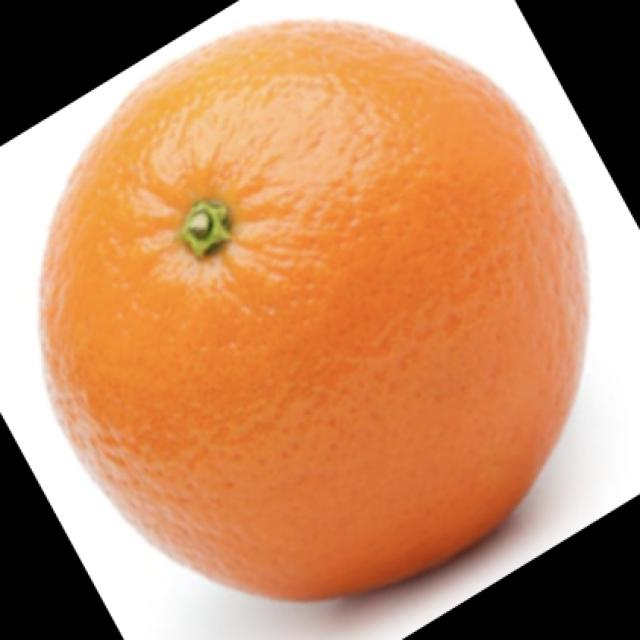matang: (37, 21, 581, 598)
